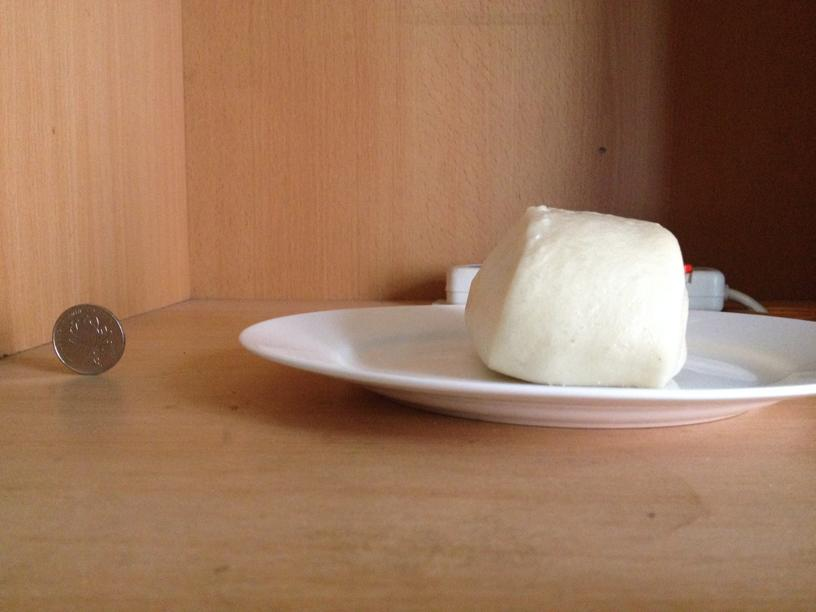bun: (466, 198, 692, 384)
coin: (50, 302, 124, 375)
